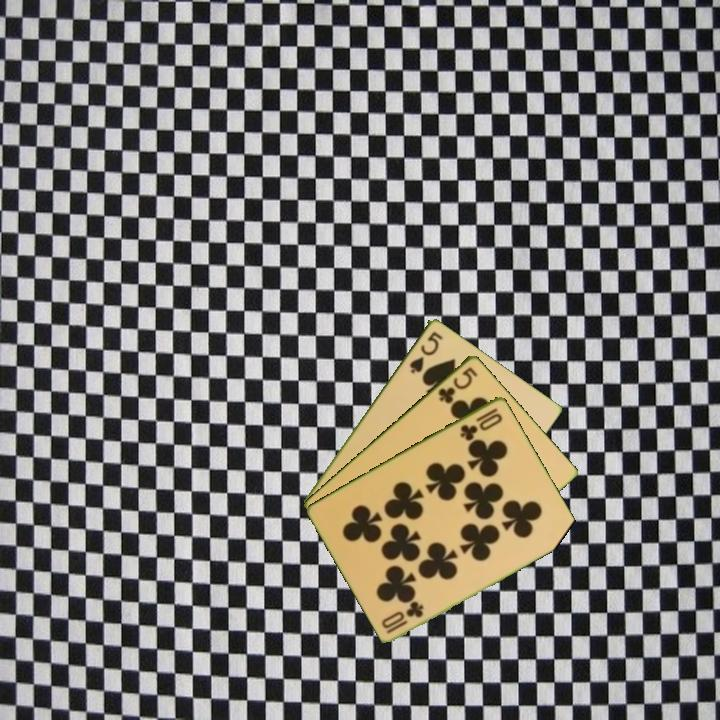10c: (456, 404, 506, 443), (378, 598, 427, 636)
5c: (435, 363, 480, 406)
5s: (406, 327, 445, 376)
